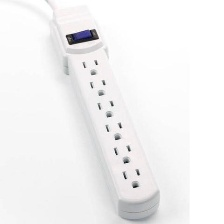three_eye_plug: (45, 0, 162, 222)
